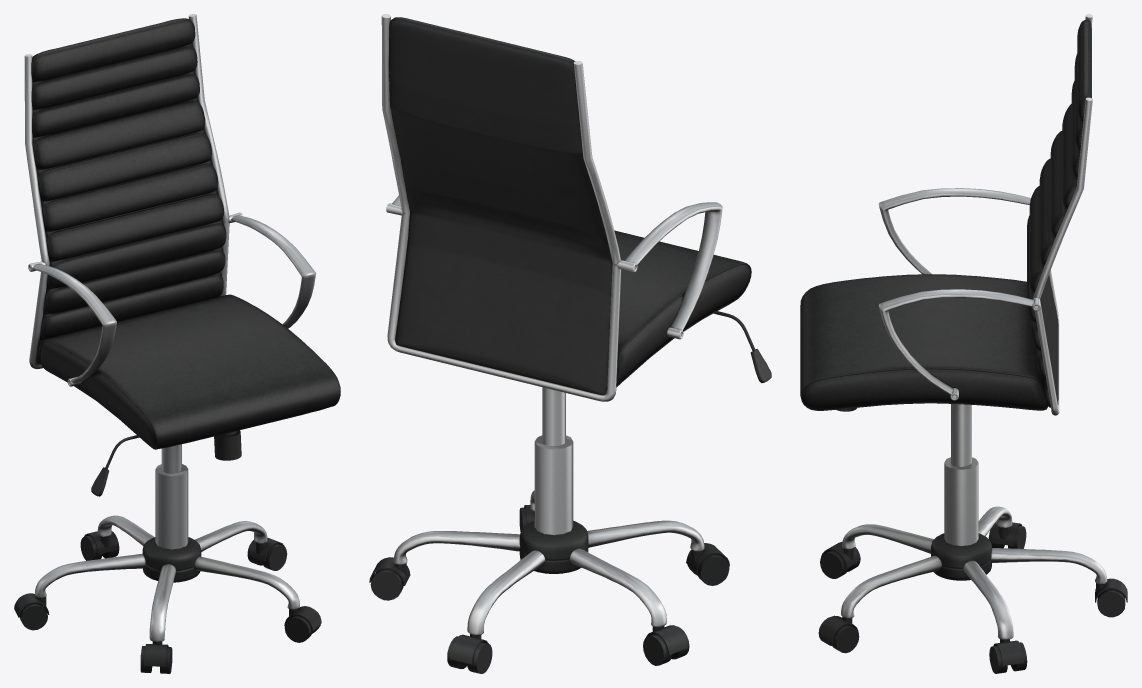
File: dallas_black_chrome_plated.glb
3 renders of one model, left to right at view 1: azimuth 30°, elevation 25°; view 2: azimuth 150°, elevation 25°; view 3: azimuth 270°, elevation 25°, orthographic. The views are drawn at different scales.
Visible parts, largest first — view 1: dallas_black; view 2: dallas_black; view 3: dallas_black.
Part boxes in pixels (bbox=[...]): dallas_black: bbox=[14, 14, 340, 673]; dallas_black: bbox=[369, 14, 771, 673]; dallas_black: bbox=[800, 14, 1127, 673].
Size of the model in its own units: 0.5798 by 1.1 by 0.59.
Materials: 1 (1 with a texture image).
